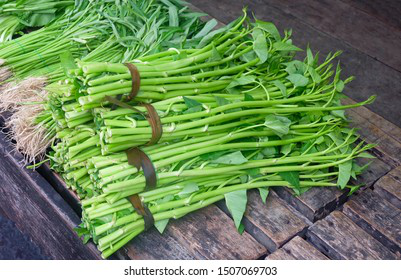Kangkung: (27, 14, 347, 220)
